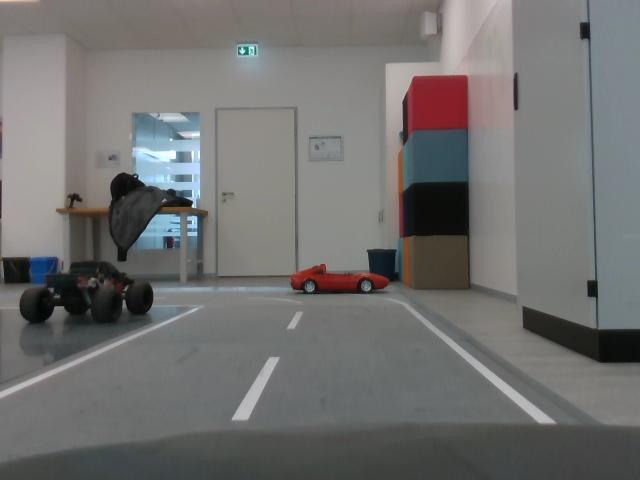car: (20, 254, 156, 327), (286, 262, 392, 298)
